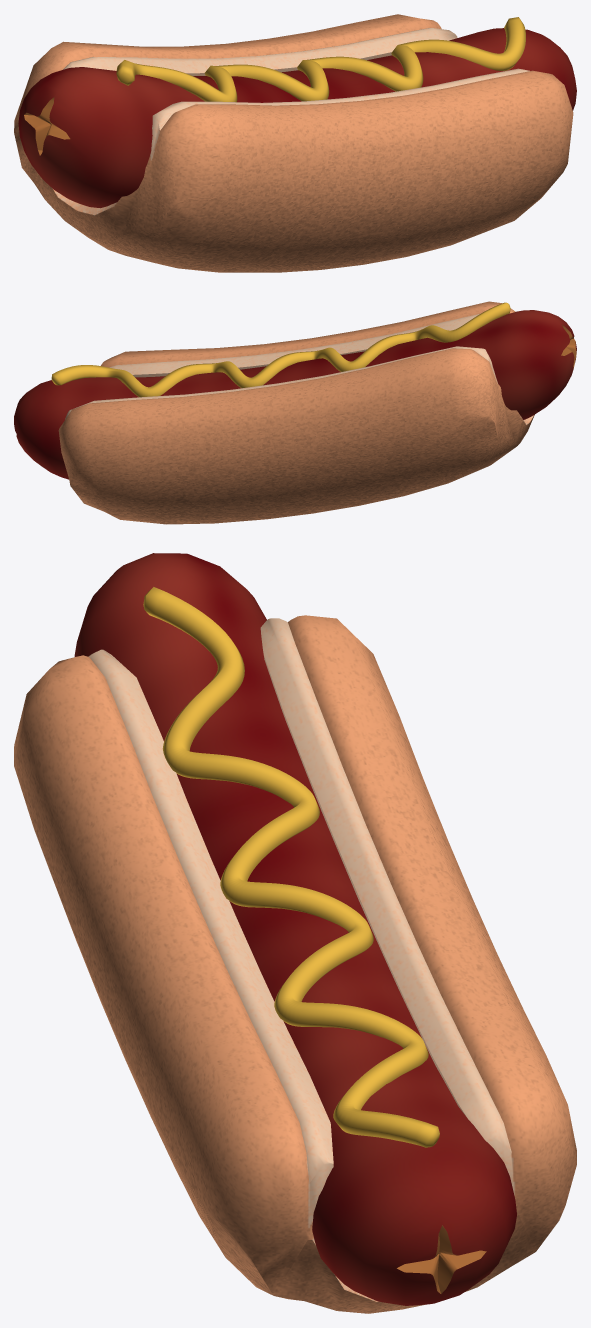
File: Hakdog.fbx
3 views of the same model, one above another, from view 1: azimuth 30°, elevation 25°; view 2: azimuth 150°, elevation 25°; view 3: azimuth 270°, elevation 25° (orthographic). The views are drawn at different scales.
Visible parts, largest first — view 1: Tinapay, hatdokl, keso; view 2: Tinapay, hatdokl, keso; view 3: Tinapay, hatdokl, keso.
Boxes of the visible parts, x1,y1,x2,y2 form: Tinapay: (14,14,573,272); hatdokl: (18,28,576,208); keso: (116,17,525,102); Tinapay: (58,301,534,524); hatdokl: (14,310,576,479); keso: (51,302,510,397); Tinapay: (14,615,576,1313); hatdokl: (74,553,516,1305); keso: (143,587,439,1147).
Bounding box in the file's own units: 303 × 142 × 166.
3 materials, 2 textured.
